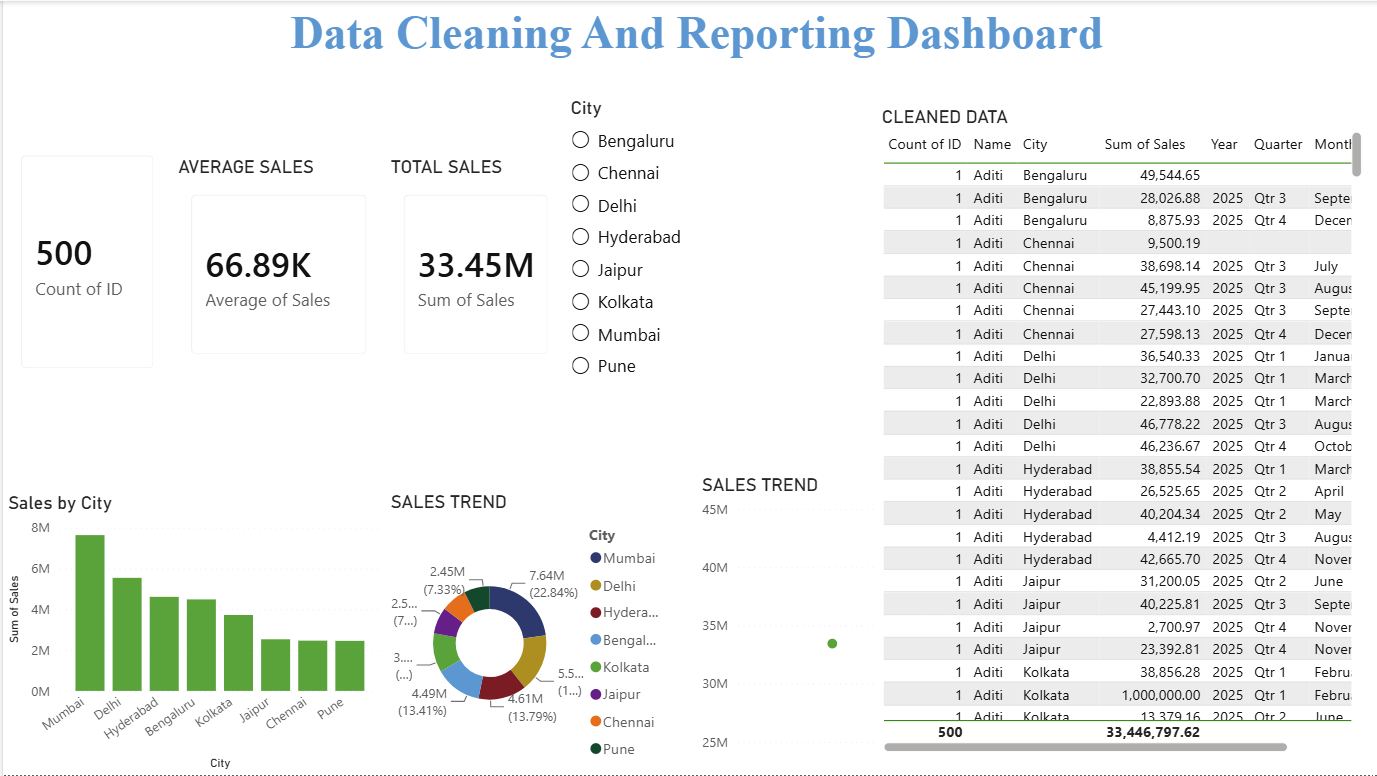

What the dashboard file says about the page in this screenshot:
{"tool":"powerbi","page":{"name":"DataCleaningDashboard.pbix","canvas":[1280,720],"ordinal":0},"visuals":[{"type":"textbox","box":[10.5,0,1269.8,89.5],"z":0},{"type":"cardVisual","title":"TOTAL SALES","fields":{"Data":["Sum(Sheet1 (2).Sales)"]},"box":[355.4,144,168.2,201.9],"z":1000},{"type":"cardVisual","title":"AVERAGE SALES","fields":{"Data":["Avg(Sheet1 (2).Sales)"]},"box":[157.7,144,197.7,201.9],"z":2000},{"type":"clusteredColumnChart","title":"Sales by City","fields":{"Category":["Sheet1 (2).City"],"Y":["Sum(Sheet1 (2).Sales)"]},"box":[0,457,355.8,262.8],"z":3000},{"type":"donutChart","title":"SALES TREND","fields":{"Category":["Sheet1 (2).City"],"Y":["Sum(Sheet1 (2).Sales)"]},"box":[355.8,455.8,273.3,264],"z":4000},{"type":"lineChart","title":" SALES TREND","fields":{"Y":["Sum(Sheet1 (2).Sales)"]},"box":[645.4,439.5,218.6,264],"z":5000},{"type":"tableEx","title":" CLEANED DATA","fields":{"Values":["CountNonNull(Sheet1 (2).ID)","Sheet1 (2).Name","Sheet1 (2).City","Sum(Sheet1 (2).Sales)","Sheet1 (2).Date.Variation.Date Hierarchy.Year","Sheet1 (2).Date.Variation.Date Hierarchy.Quarter","Sheet1 (2).Date.Variation.Date Hierarchy.Month","Sheet1 (2).Date.Variation.Date Hierarchy.Day"]},"box":[812.8,97.7,455.8,605.8],"z":6000},{"type":"listSlicer","fields":{"Values":["Sheet1 (2).City"]},"box":[523.6,89.4,247.1,295.4],"z":7000},{"type":"cardVisual","fields":{"Data":["CountNonNull(Sheet1 (2).ID)"]},"box":[0,127.2,157.7,232.4],"z":8000}]}

Visuals, with their boxes in screenshot pixels (x1, y1, x2, y2), scaled from the page's 1280x720 canvas onto the 1377x776 screenshot:
textbox: left=11, top=0, right=1376, bottom=96
"TOTAL SALES" cardVisual: left=382, top=155, right=563, bottom=373
"AVERAGE SALES" cardVisual: left=170, top=155, right=382, bottom=373
"Sales by City" clusteredColumnChart: left=0, top=493, right=383, bottom=775
"SALES TREND" donutChart: left=383, top=491, right=677, bottom=775
" SALES TREND" lineChart: left=694, top=474, right=929, bottom=758
" CLEANED DATA" tableEx: left=874, top=105, right=1365, bottom=758
listSlicer - Sheet1 (2).City: left=563, top=96, right=829, bottom=415
cardVisual - CountNonNull(Sheet1 (2).ID): left=0, top=137, right=170, bottom=388
